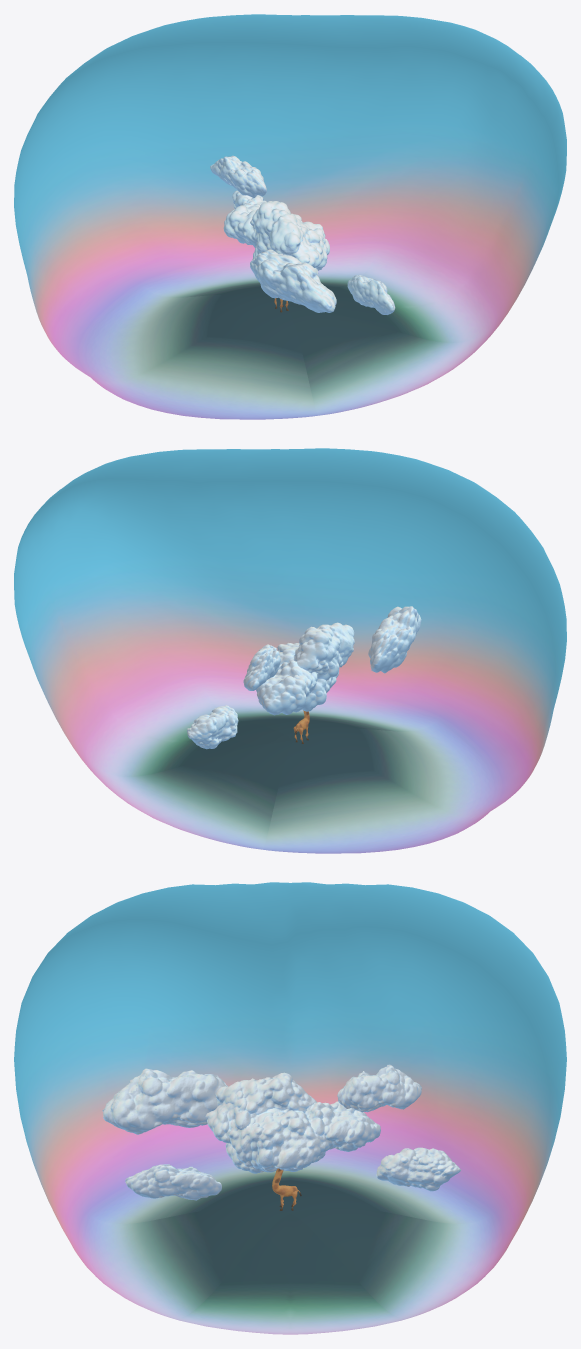
The picture shows the model from 3 angles, top to bottom: view 1: azimuth 30°, elevation 25°; view 2: azimuth 150°, elevation 25°; view 3: azimuth 270°, elevation 25°; orthographic projection. The views are drawn at different scales.
Visible parts, largest first — view 1: Background, Clouds; view 2: Background, Clouds; view 3: Background, Clouds.
Boxes of the visible parts, box(x1,y1,x2,y2) form: Background: box(14, 14, 566, 419); Clouds: box(210, 155, 395, 314); Background: box(14, 448, 566, 853); Clouds: box(187, 606, 421, 749); Background: box(14, 882, 566, 1334); Clouds: box(102, 1064, 460, 1200).
Size of the model in its own units: 146 by 84.61 by 129.
Materials: 3 (3 with a texture image).
